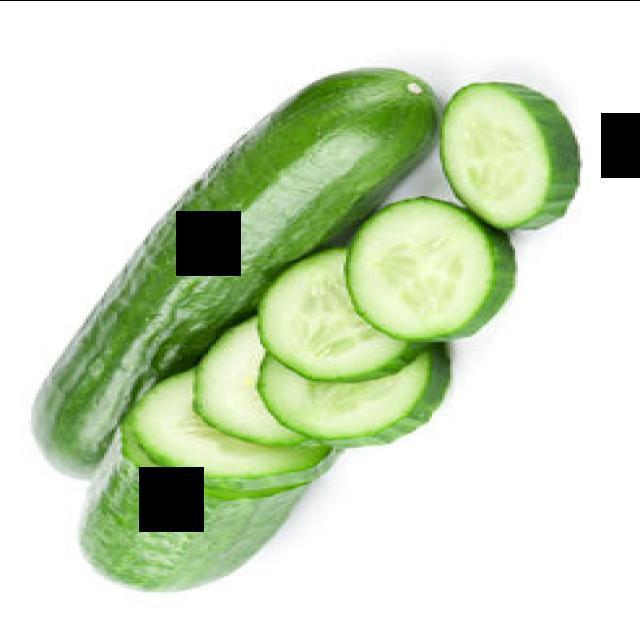cucumber: (28, 56, 622, 626), (171, 224, 467, 476), (336, 175, 553, 371), (416, 46, 620, 245)
